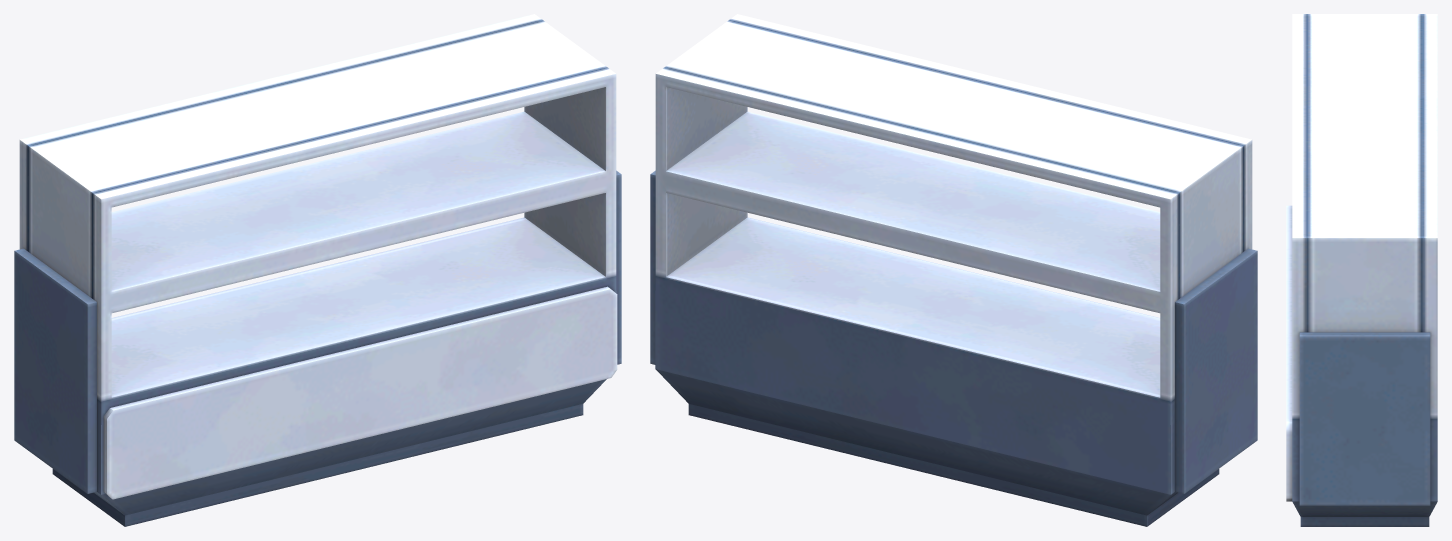
File: obj_stack.gltf
The picture shows the model from 3 angles, left to right: view 1: azimuth 30°, elevation 25°; view 2: azimuth 150°, elevation 25°; view 3: azimuth 270°, elevation 25°; orthographic projection. The views are drawn at different scales.
Visible parts, largest first — view 1: obj_stack; view 2: obj_stack; view 3: obj_stack.
Boxes of the visible parts, x1=… form: obj_stack: x1=14, y1=14, x2=621, y2=526; obj_stack: x1=650, y1=14, x2=1257, y2=526; obj_stack: x1=1286, y1=14, x2=1437, y2=526.
Size of what is drawn, in the model's own units: 2.74 by 1.66 by 0.7558.
1 material, 1 textured.
